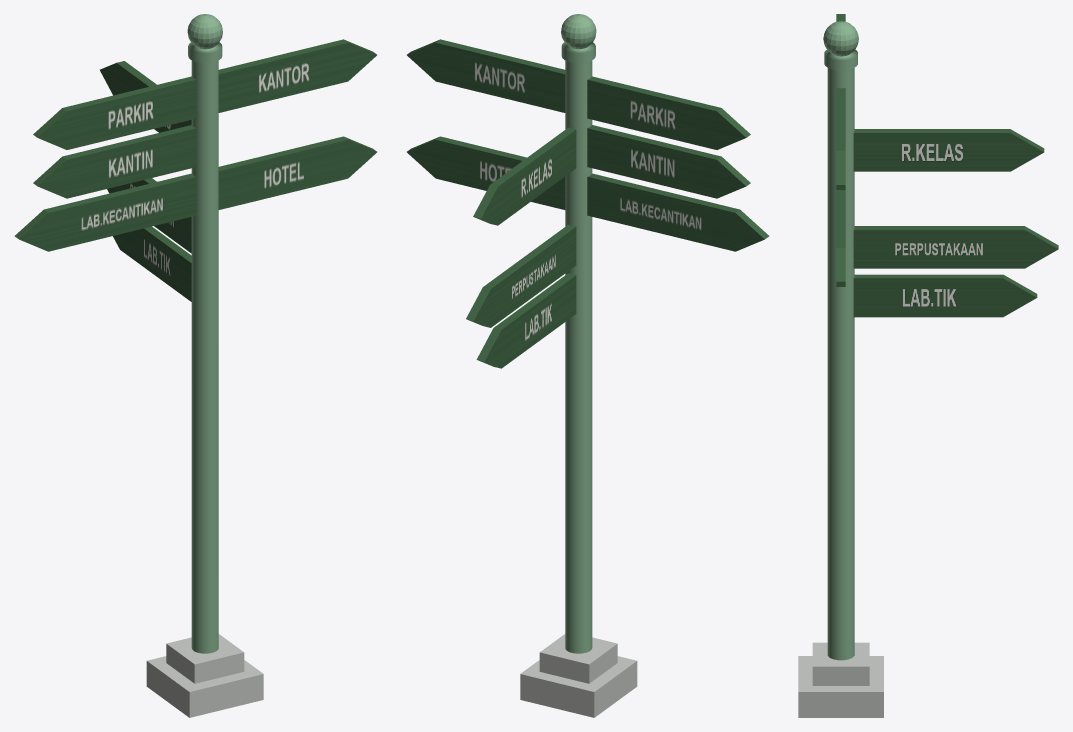
File: penunjuk_arah.glb
The picture shows the model from 3 angles, left to right: view 1: azimuth 30°, elevation 25°; view 2: azimuth 150°, elevation 25°; view 3: azimuth 270°, elevation 25°; orthographic projection.
Visible parts, largest first — view 1: Papan_Panah_Penunjuk_Arah, Tiang_Dan_Mahkota_Hijau, Pondasi_Beton_Tiang; view 2: Papan_Panah_Penunjuk_Arah, Tiang_Dan_Mahkota_Hijau, Pondasi_Beton_Tiang; view 3: Papan_Panah_Penunjuk_Arah, Tiang_Dan_Mahkota_Hijau, Pondasi_Beton_Tiang.
Boxes of the visible parts, <box> form: Papan_Panah_Penunjuk_Arah: <box>14,39,376,301</box>; Tiang_Dan_Mahkota_Hijau: <box>187,14,222,653</box>; Pondasi_Beton_Tiang: <box>146,634,263,717</box>; Papan_Panah_Penunjuk_Arah: <box>407,39,769,368</box>; Tiang_Dan_Mahkota_Hijau: <box>561,14,596,653</box>; Pondasi_Beton_Tiang: <box>520,634,637,717</box>; Papan_Panah_Penunjuk_Arah: <box>836,14,1058,317</box>; Tiang_Dan_Mahkota_Hijau: <box>823,21,858,660</box>; Pondasi_Beton_Tiang: <box>798,642,883,717</box>.
Size of the model in its own units: 1.16 by 2.1 by 0.73.
Materials: 3 (1 with a texture image).
